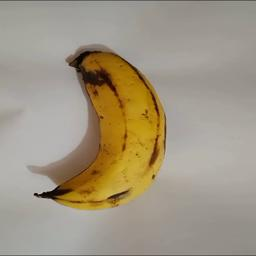Banana Semifresh: (46, 46, 172, 212)
